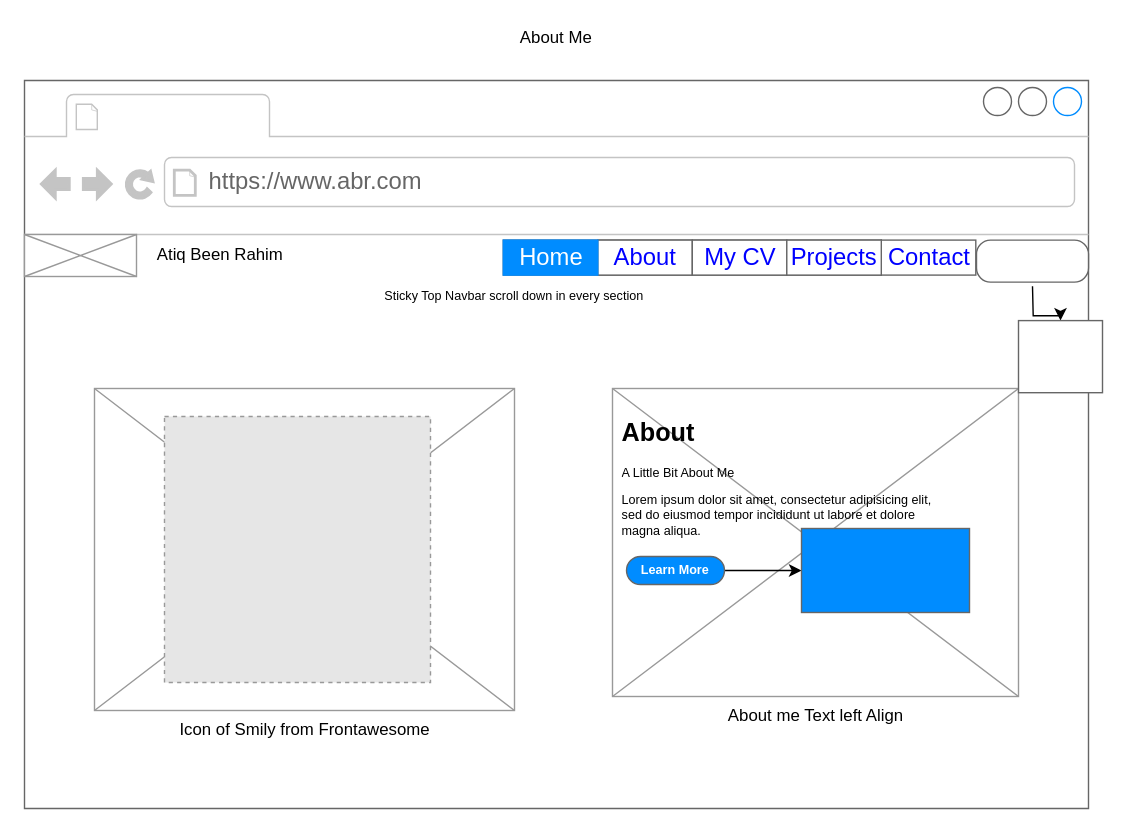
This 1127x833 diagram has some shape labels left out. Grey dashed boxes stand in for pictures. The shapes that lost their labels are listed below. From the top down, each one's centre as x and y in pixels, then its label:
point 184,115: Milestone Project 01 - Personal Portfolio
point 79,254: LOGO
point 1031,254: Download CV
point 1059,356: Link of printable version CV
point 884,569: Linked with My CV section
